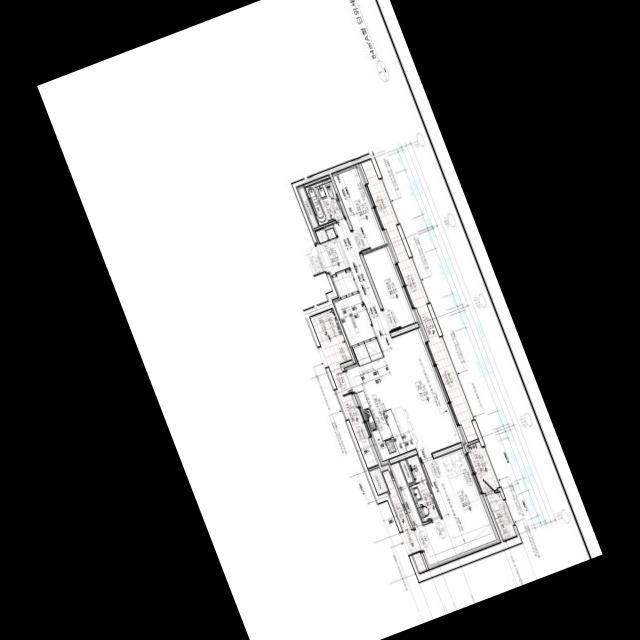background: (37, 0, 603, 640)
space_balconi: (361, 159, 478, 442), (310, 308, 378, 467), (382, 470, 426, 572), (467, 441, 497, 493)
space_bedroom: (389, 447, 501, 569), (332, 163, 388, 252), (363, 244, 418, 330)
space_front: (316, 224, 358, 297)
space_kitchen: (344, 338, 418, 465)
space_living_room: (334, 219, 465, 457)
space_other: (333, 292, 375, 345), (486, 492, 517, 540), (297, 185, 319, 243), (369, 467, 388, 494), (400, 459, 413, 483)
space_toilet: (407, 455, 440, 522), (305, 178, 345, 225)
